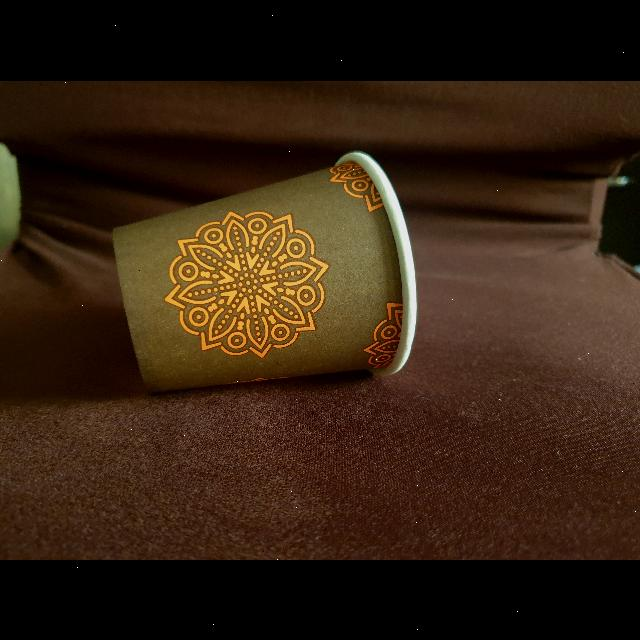trash: (110, 144, 424, 400)
